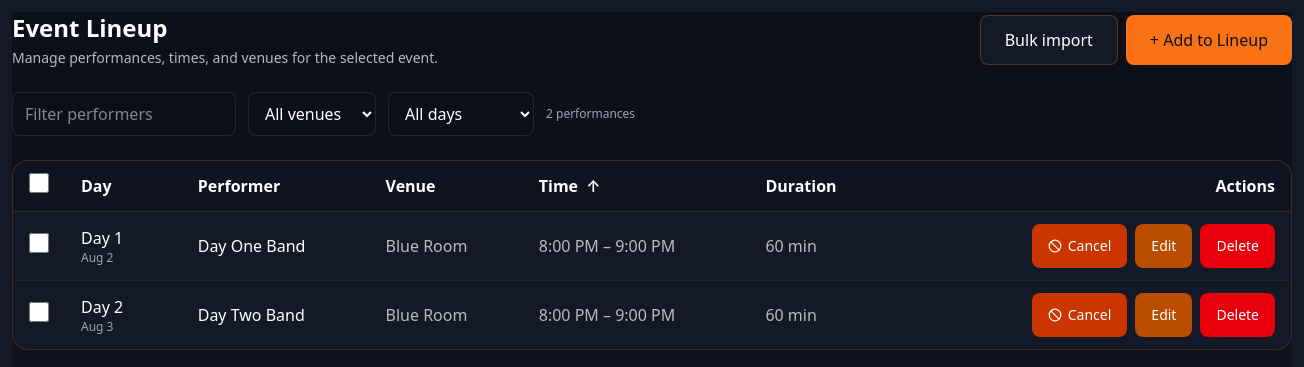
Test: LineupTab — multi-day events: the Day column and day filter › the day filter narrows to the selected festival day
Expected: the table is shown, [13,161,1291,349]
Step 1. Select "Day 2 (Aug 3)" in the dropdown named "Filter performers by day" → {"x": 461, "y": 114}, box [388,92,534,136]
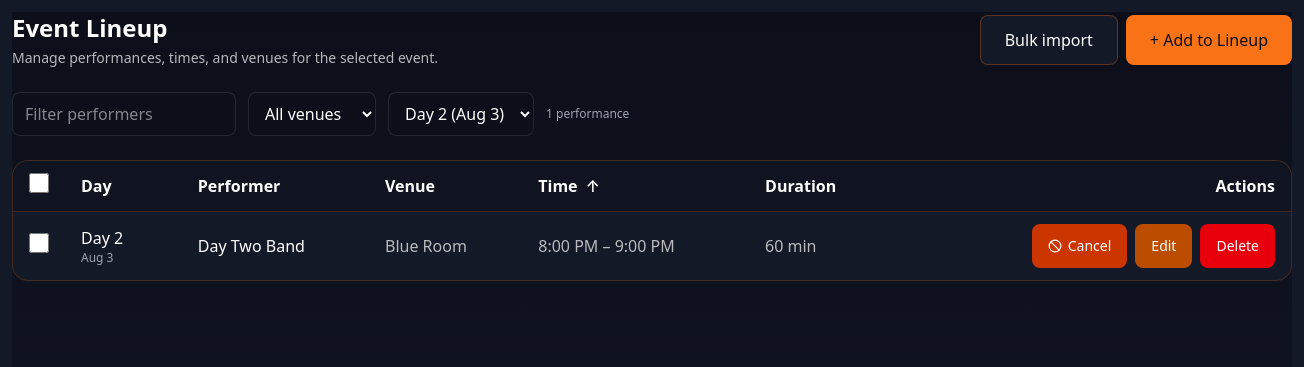
Expected: the text "Day Two Band" is shown, [198,234,305,258]
Now the text "Day One Band" is gone
